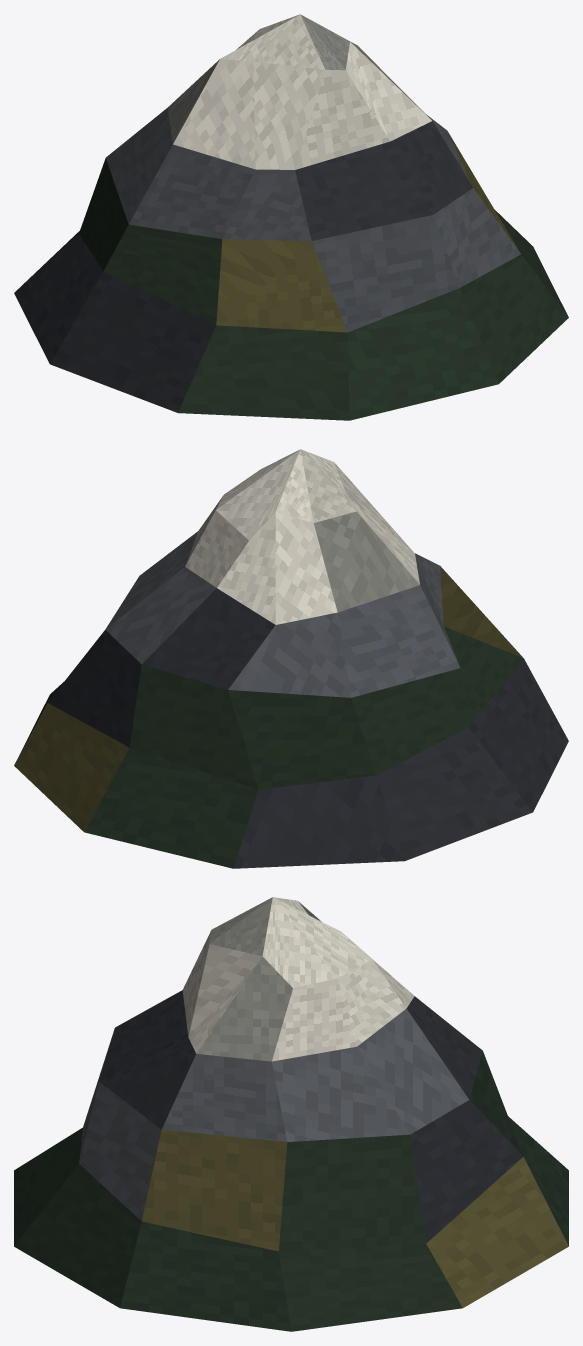
Rendered from terrain_mountain.glb.
The picture shows the model from 3 angles, top to bottom: view 1: azimuth 30°, elevation 25°; view 2: azimuth 150°, elevation 25°; view 3: azimuth 270°, elevation 25°; orthographic projection. The views are drawn at different scales.
Visible parts, largest first — view 1: terrain_mountain; view 2: terrain_mountain; view 3: terrain_mountain.
Part boxes in pixels (left/top/right/bottom): terrain_mountain: left=14, top=14, right=568, bottom=420; terrain_mountain: left=14, top=449, right=568, bottom=868; terrain_mountain: left=14, top=897, right=568, bottom=1331.
Size of the model in its own units: 30 by 17.66 by 28.53.
Materials: 1 (1 with a texture image).
